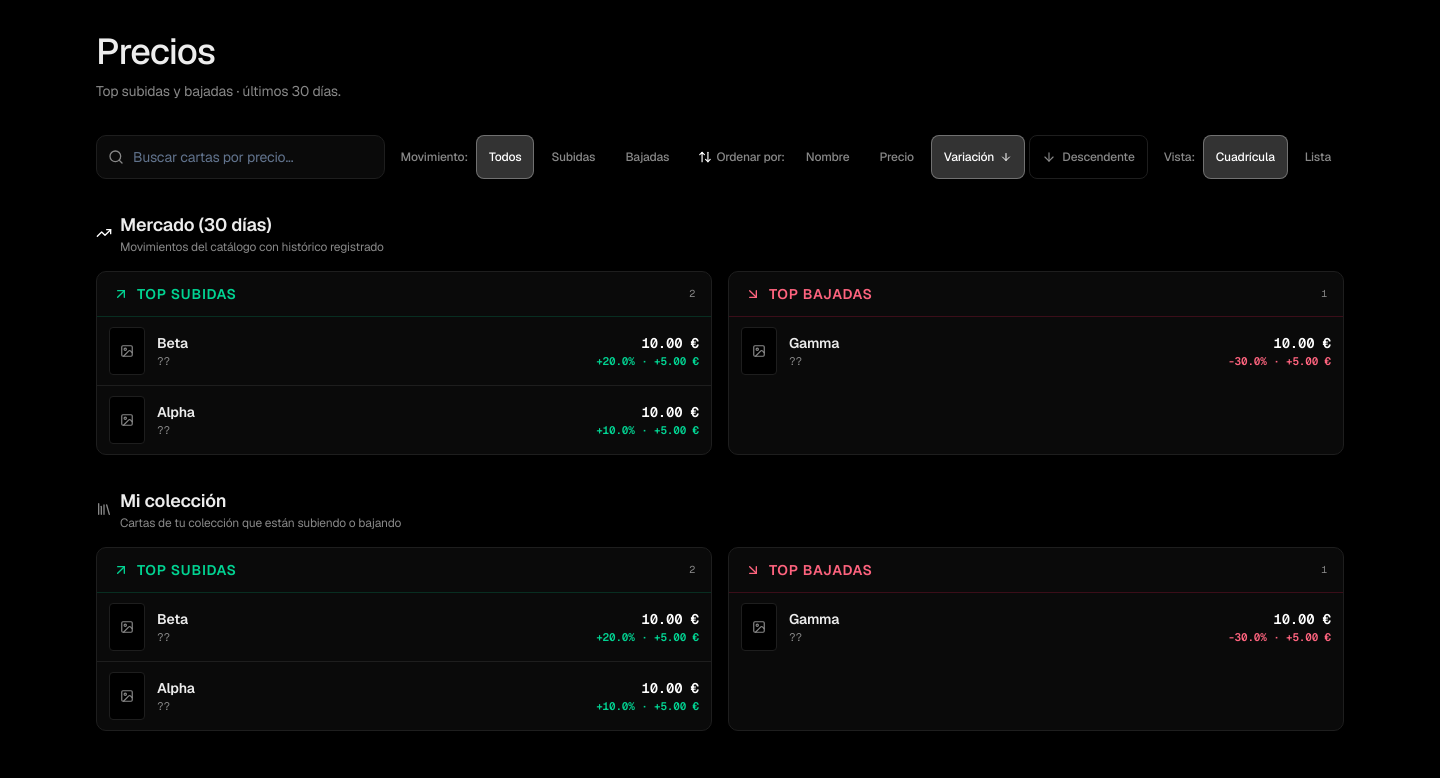
searches and sorts price movements while keeping the selected filters across display changes
Click the button "Nombre".
click(828, 157)  # box [793, 135, 862, 179]
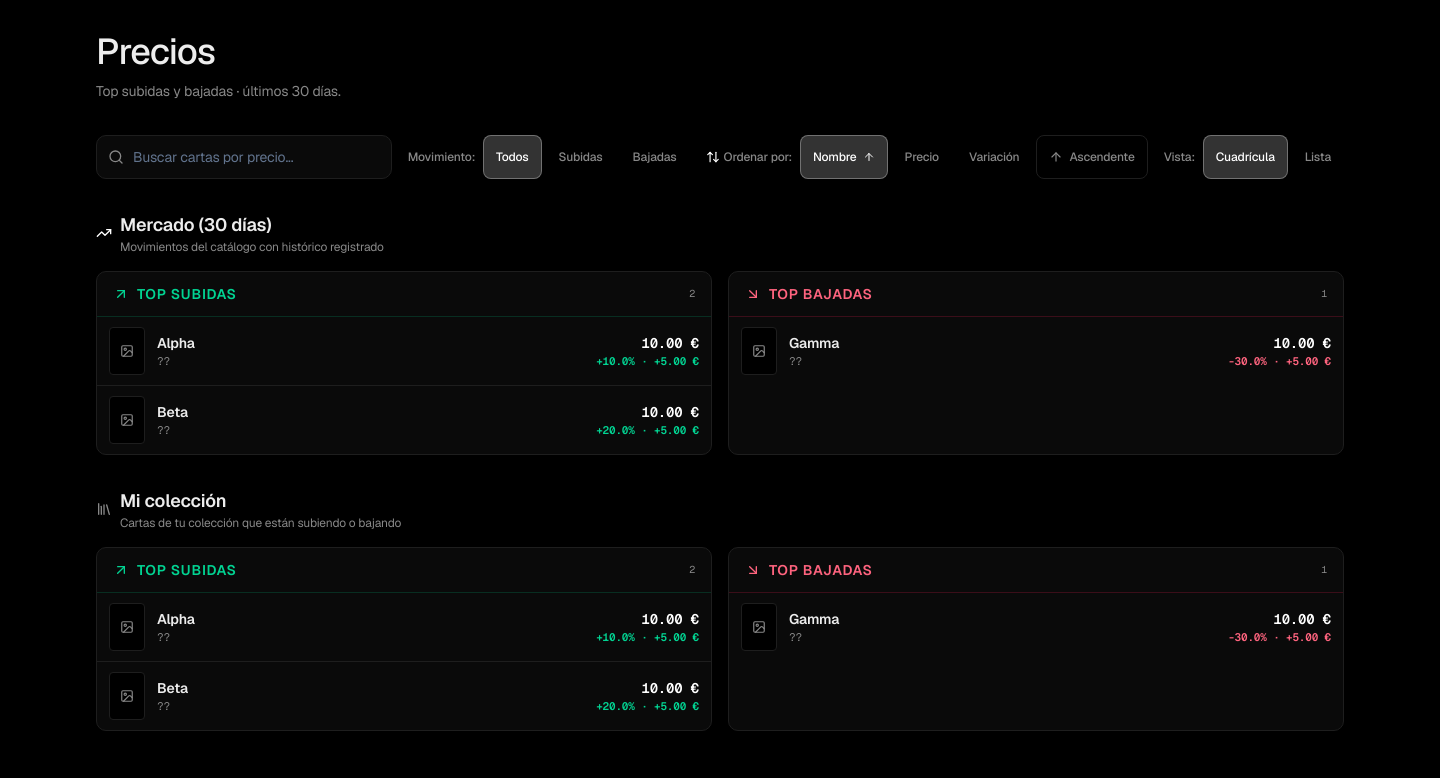
Click the button "Bajadas".
click(654, 157)  # box [620, 135, 690, 179]
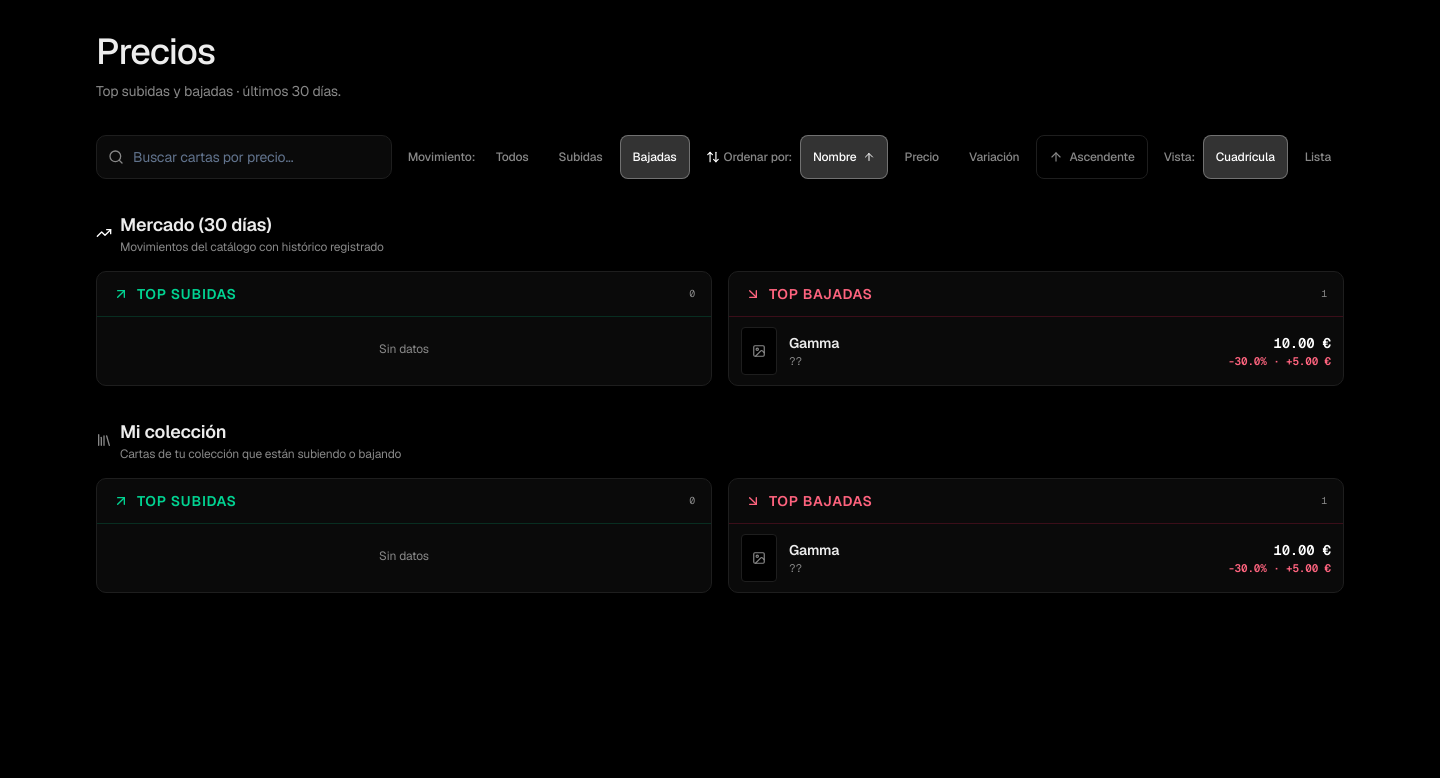
Expected: the 1st text "Gamma" is shown, [789, 334, 839, 352]
Result: the button "Alpha" is gone
Type "Gamma" into the search field.
click(244, 157); type("Gamma")  # box [96, 135, 392, 179]
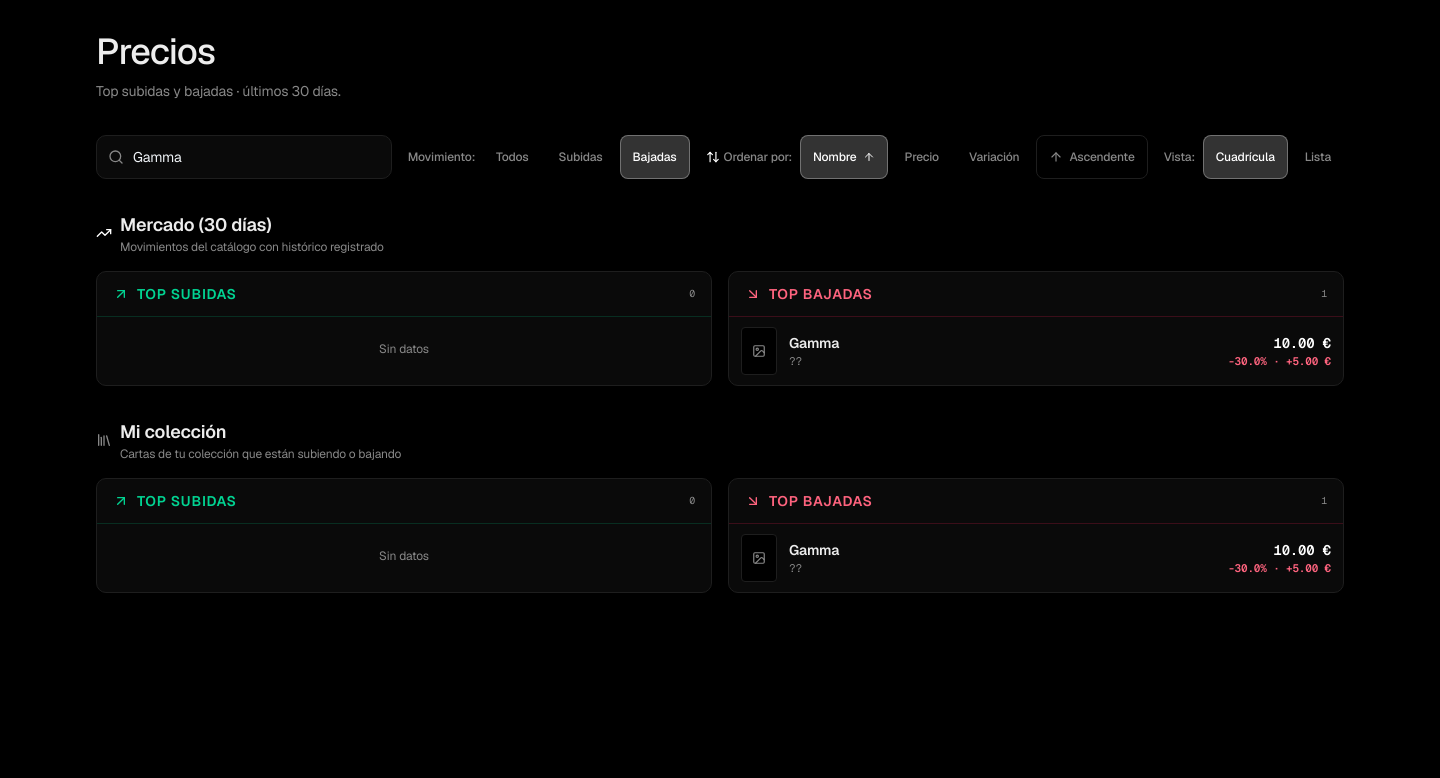
Click the button "Lista".
click(1318, 157)  # box [1292, 135, 1344, 179]
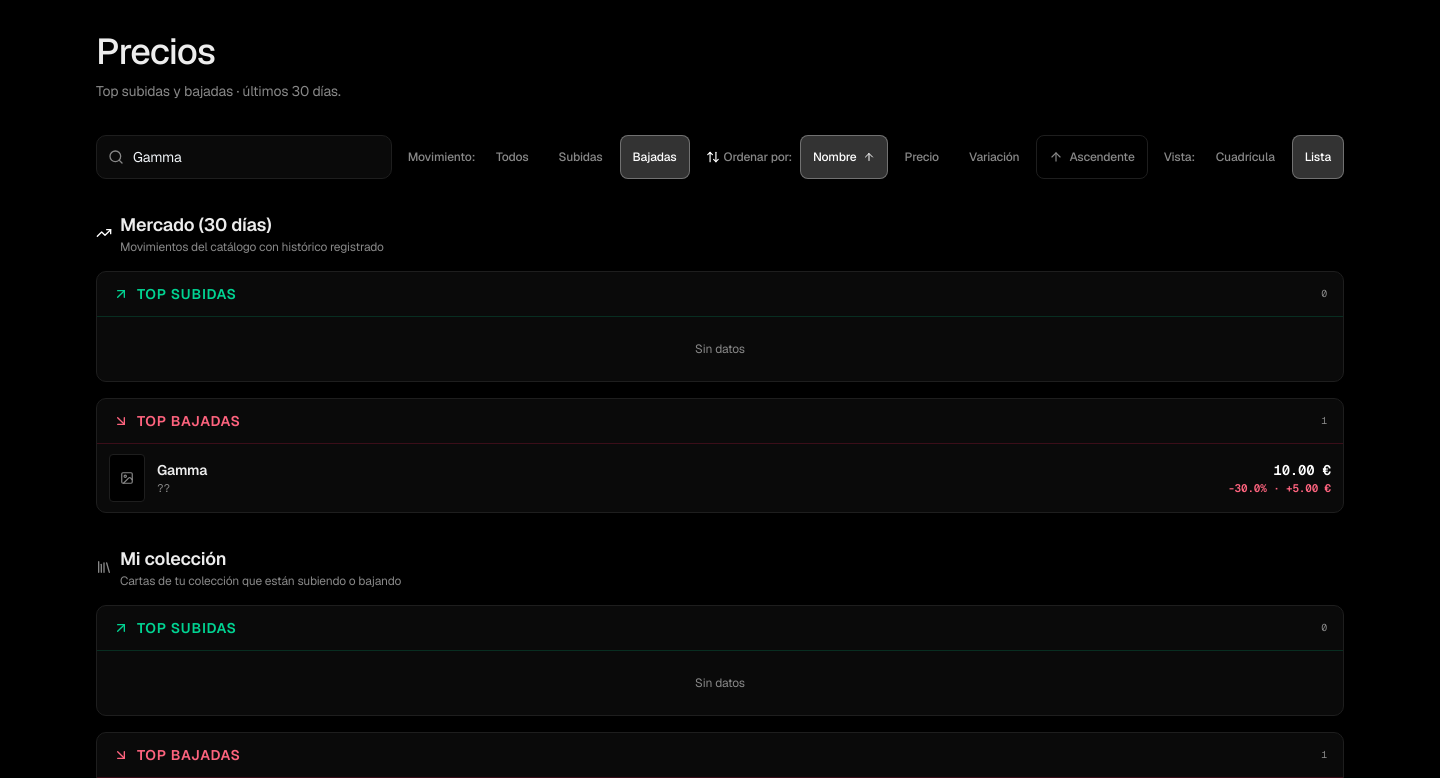
Expected: the 1st text "Gamma" is shown, [157, 460, 207, 478]
Result: the button "Bajadas" is pressed at [620, 135, 690, 179]
Replace the text in the search field with "no match" at [244, 157], box [96, 135, 392, 179]
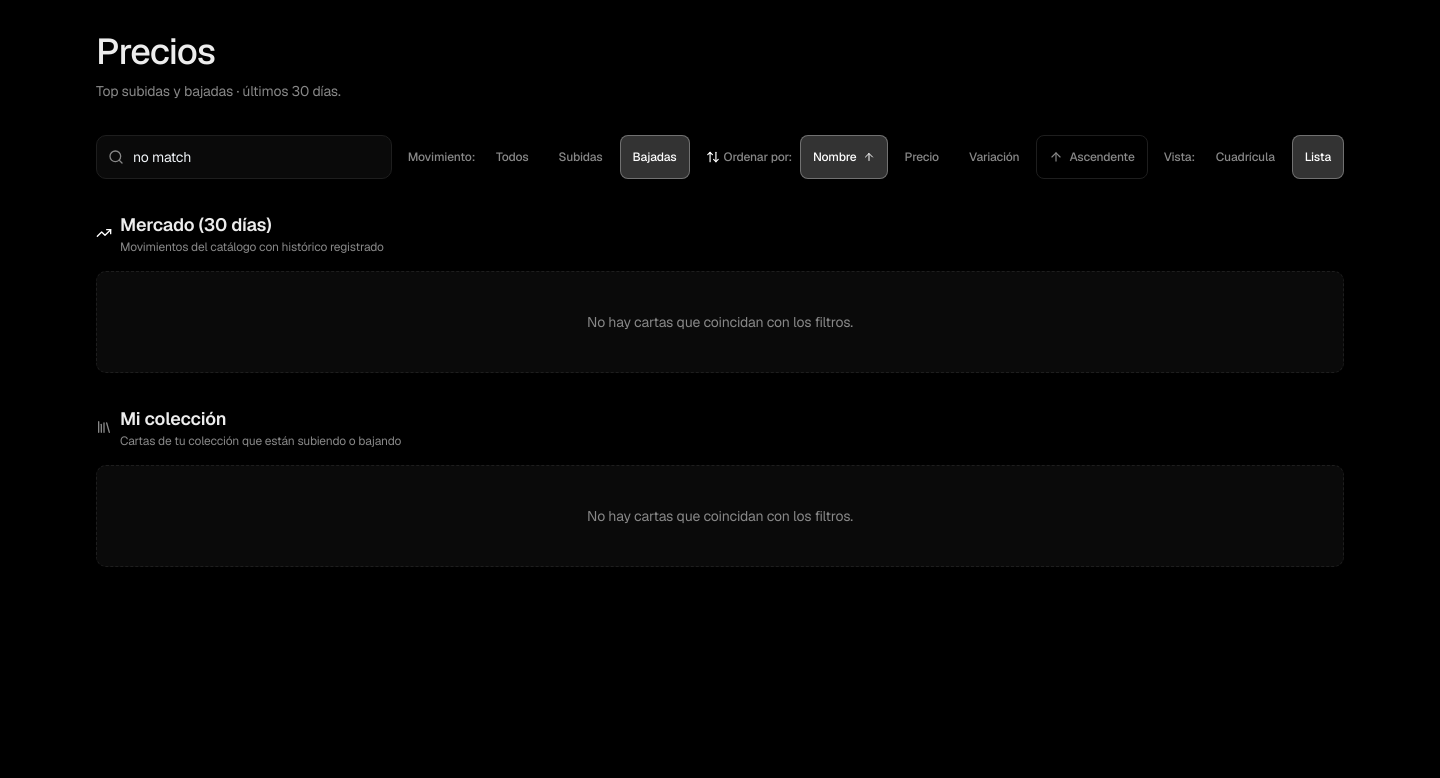
Result: the text "No hay cartas que coincidan con los filtros." below "Mercado (30 días)" is shown at [587, 313, 853, 331]
